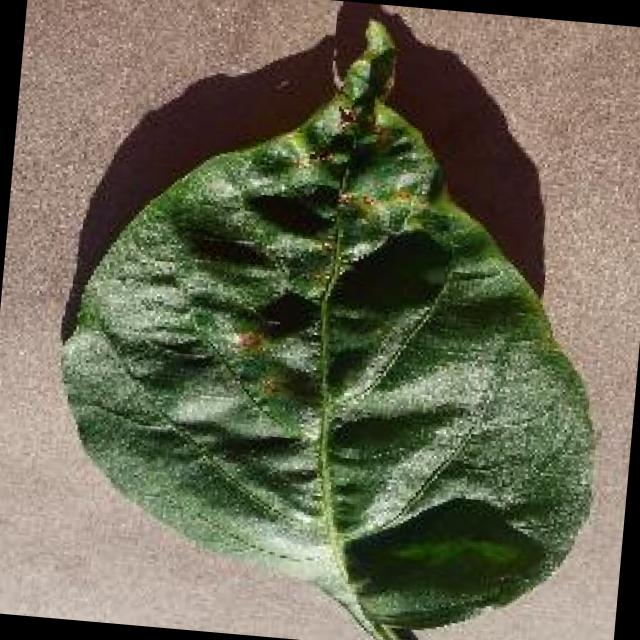Chilli_Bacterial_Spot: (33, 0, 636, 640), (218, 3, 452, 421), (248, 282, 323, 348), (356, 12, 400, 60), (331, 183, 382, 224), (252, 368, 290, 402), (230, 322, 264, 355)
